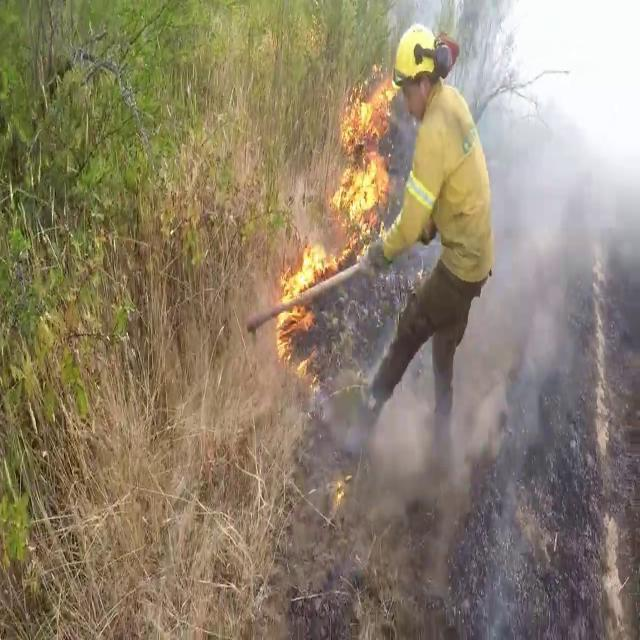Fire: (269, 55, 407, 374)
Smoke: (445, 0, 640, 577)
